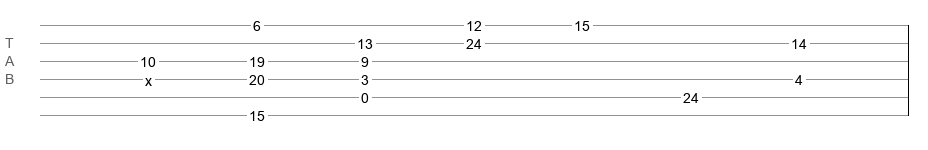0: (361, 90, 369, 100)
10: (140, 54, 156, 64)
12: (466, 18, 482, 28)
13: (357, 36, 373, 46)
14: (791, 36, 807, 46)
15: (249, 108, 265, 118), (574, 18, 590, 28)
19: (249, 54, 265, 64)
20: (249, 72, 265, 82)
24: (466, 36, 482, 46), (683, 90, 699, 100)
3: (361, 72, 369, 82)
4: (795, 72, 803, 82)
6: (253, 18, 261, 28)
9: (361, 54, 369, 64)
x: (145, 73, 152, 81)
